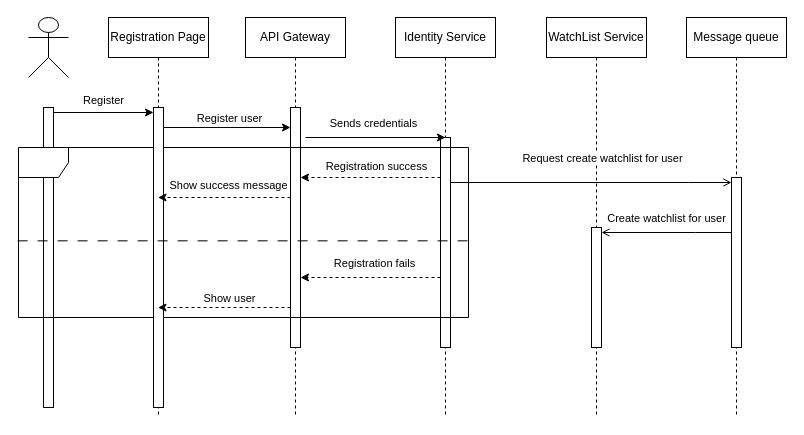
The diagram is 804 pixels wide and 435 high, and some of its shapes have lost their labels. Each missing label, with the box of its shape:
Actor: (28, 16, 68, 78)
Alt: (18, 146, 468, 318)
